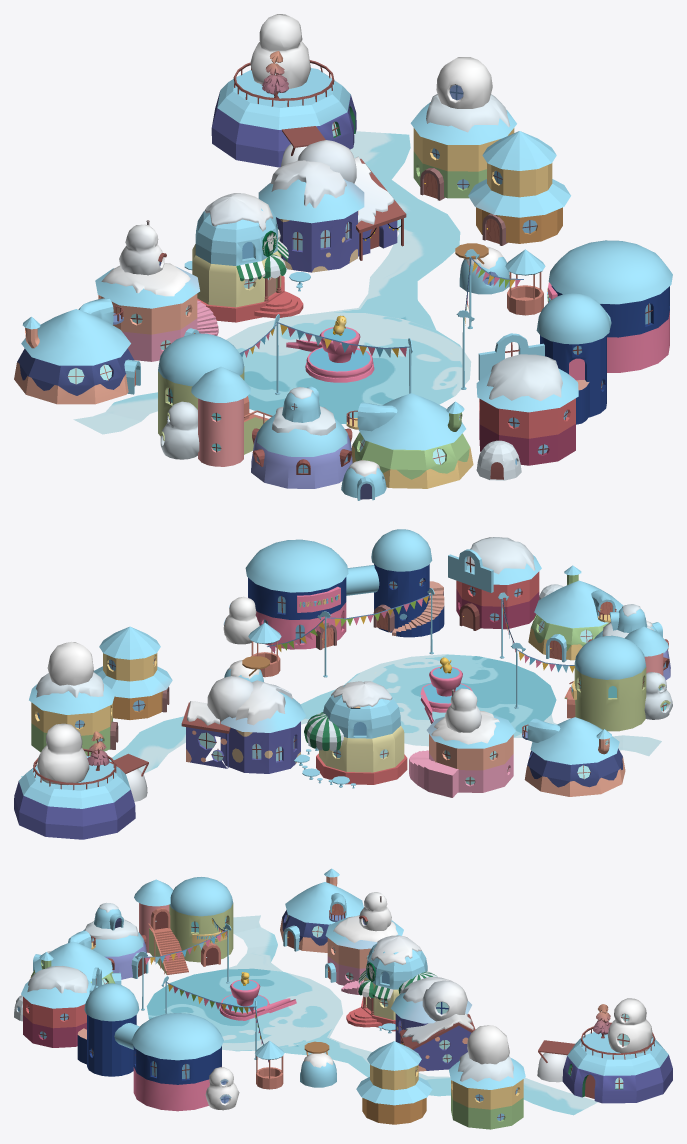
The model's file is Neighborhood_IceBreakerAlley_03.fbx.
3 views of the same model, one above another, from view 1: azimuth 30°, elevation 25°; view 2: azimuth 150°, elevation 25°; view 3: azimuth 270°, elevation 25° (orthographic). The views are drawn at different scales.
Visible parts, largest first — view 1: Object_Road, pasted__pasted__pCube28, pasted__Igloo05, pasted__Igloo04, pasted__polySurface27, pasted__polySurface24, pasted__Igloo03, pasted__Igloo01, pasted__Igloo02, pasted__Igloo06, pasted__pasted__pCylinder4, pasted__polySurface22 (+8 smaller); view 2: pasted__pasted__pCube28, Object_Road, pasted__Igloo05, pasted__Igloo04, pasted__Igloo03, pasted__polySurface24, pasted__Igloo02, pasted__polySurface27, pasted__Igloo01, pasted__Igloo06, pasted__pasted__pCylinder4, pasted__pasted__Igloo04_pCylinder3 (+8 smaller); view 3: Object_Road, pasted__pasted__pCube28, pasted__Igloo05, pasted__polySurface24, pasted__Igloo04, pasted__polySurface27, pasted__pasted__Igloo04_pCylinder3, pasted__Igloo03, pasted__pasted__pCylinder4, pasted__Igloo02, pasted__Igloo01, pasted__polySurface22 (+8 smaller).
Boxes of the visible parts, x1,y1,x2,y2 form: Object_Road: (73,131,471,434); pasted__pasted__pCube28: (536,240,672,424); pasted__Igloo05: (211,14,356,167); pasted__Igloo04: (258,140,406,272); pasted__polySurface27: (476,333,578,480); pasted__polySurface24: (158,333,272,466); pasted__Igloo03: (184,193,310,322); pasted__Igloo01: (14,298,140,404); pasted__Igloo02: (95,220,218,361); pasted__Igloo06: (346,393,473,488); pasted__pasted__pCylinder4: (468,131,570,243); pasted__polySurface22: (251,386,352,488); pasted__pasted__pCube28: (245,529,444,649); Object_Road: (21,654,661,777); pasted__Igloo05: (14,723,148,839); pasted__Igloo04: (181,676,306,773); pasted__Igloo03: (294,681,407,788); pasted__polySurface24: (564,626,672,731); pasted__Igloo02: (409,688,515,797); pasted__polySurface27: (448,537,563,630); pasted__Igloo01: (522,717,625,796); pasted__Igloo06: (528,565,623,662); pasted__pasted__pCylinder4: (93,626,172,719); pasted__pasted__Igloo04_pCylinder3: (29,672,115,755); Object_Road: (146,915,597,1115); pasted__pasted__pCube28: (77,983,223,1111); pasted__Igloo05: (537,998,672,1103); pasted__polySurface24: (134,877,233,974); pasted__Igloo04: (391,977,475,1071); pasted__polySurface27: (14,966,101,1047); pasted__pasted__Igloo04_pCylinder3: (449,1052,525,1129); pasted__Igloo03: (346,935,437,1033); pasted__pasted__pCylinder4: (356,1041,432,1124); pasted__Igloo02: (325,892,403,994); pasted__Igloo01: (280,868,363,952); pasted__polySurface22: (83,903,148,979).
Bounding box in the file's own units: 4203 × 845 × 5431.
